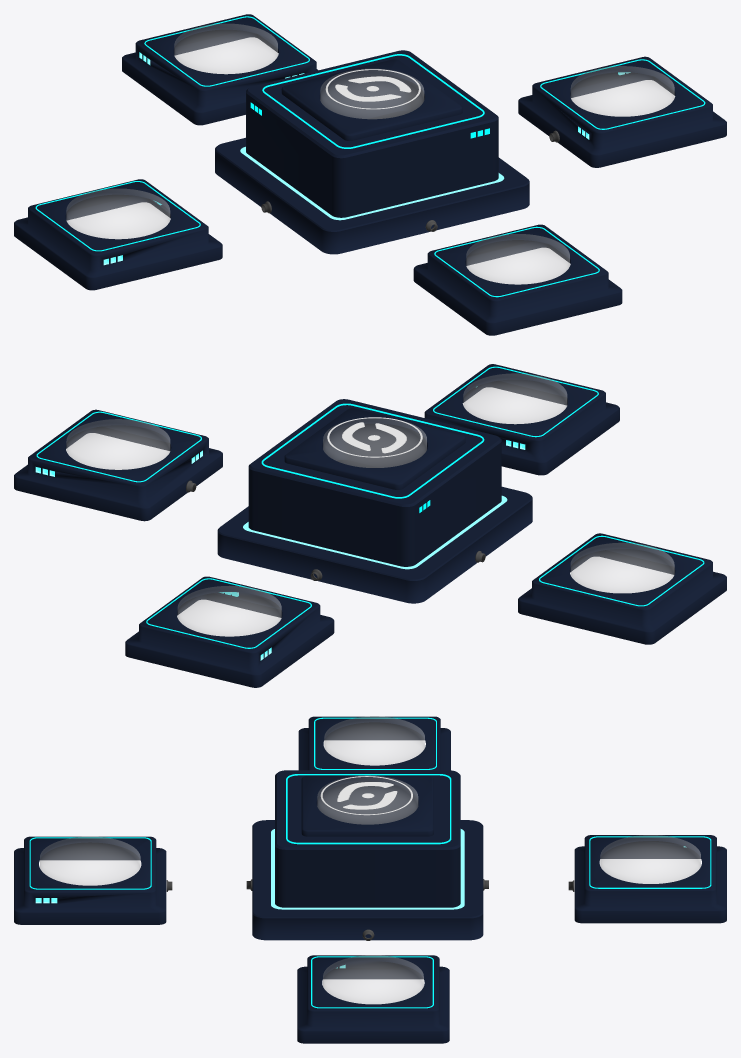
Rendered from Test_for_blender(9).glb.
3 renders of one model, top to bottom at view 1: azimuth 30°, elevation 25°; view 2: azimuth 150°, elevation 25°; view 3: azimuth 270°, elevation 25°, orthographic. The views are drawn at different scales.
Visible parts, largest first — view 1: Platform, Platformm_2.004, Platformm_2.001, Platformm_2.003, Platform_2.002, Platformm_2, Glass.004, Glass.003, Glass.001, Glass.002, Glass, Decal (+5 smaller); view 2: Platform, Platform_2.002, Platformm_2.001, Platformm_2.003, Platformm_2.004, Platformm_2, Glass.003, Glass.004, Glass.002, Glass.001, Glass, Decal (+5 smaller); view 3: Platform, Platformm_2.004, Platformm_2.003, Platform_2.002, Platformm_2.001, Platformm_2, Glass.002, Glass.001, Glass.003, Glass.004, Glass, Decal (+4 smaller).
Boxes of the visible parts, box(x1,y1,x2,y2) form: Platform: box(215, 50, 529, 254); Platformm_2.004: box(413, 224, 622, 335); Platformm_2.001: box(14, 179, 222, 290); Platformm_2.003: box(518, 56, 726, 167); Platform_2.002: box(122, 14, 317, 125); Platformm_2: box(281, 59, 462, 140); Glass.004: box(466, 234, 569, 284); Glass.003: box(571, 66, 674, 116); Glass.001: box(66, 189, 169, 238); Glass.002: box(174, 24, 277, 73); Glass: box(320, 69, 423, 118); Decal: box(325, 69, 420, 109); Platform: box(217, 399, 532, 603); Platform_2.002: box(125, 576, 334, 687); Platformm_2.001: box(518, 533, 726, 644); Platformm_2.003: box(14, 409, 222, 521); Platformm_2.004: box(424, 364, 619, 475); Platformm_2: box(284, 408, 465, 489); Glass.003: box(66, 419, 169, 469); Glass.004: box(463, 373, 566, 423); Glass.002: box(178, 586, 281, 636); Glass.001: box(571, 543, 674, 592); Glass: box(323, 418, 426, 467); Decal: box(327, 417, 422, 457); Platform: box(252, 770, 483, 940); Platformm_2.004: box(14, 836, 166, 924); Platformm_2.003: box(297, 955, 449, 1043); Platform_2.002: box(574, 835, 726, 923); Platformm_2.001: box(298, 716, 450, 770); Platformm_2: box(301, 775, 433, 836); Glass.002: box(600, 835, 700, 883); Glass.001: box(324, 716, 424, 765); Glass.003: box(323, 955, 423, 1003); Glass.004: box(40, 837, 140, 885); Glass: box(317, 775, 417, 824); Decal: box(320, 776, 412, 815).
Size of the model in its own units: 11.96 by 1.77 by 11.88.
Materials: 7 (1 with a texture image).
